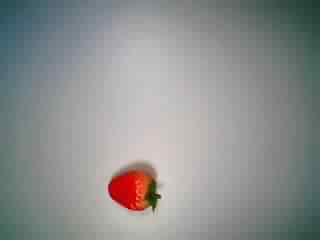strawberry: (100, 153, 166, 219)
